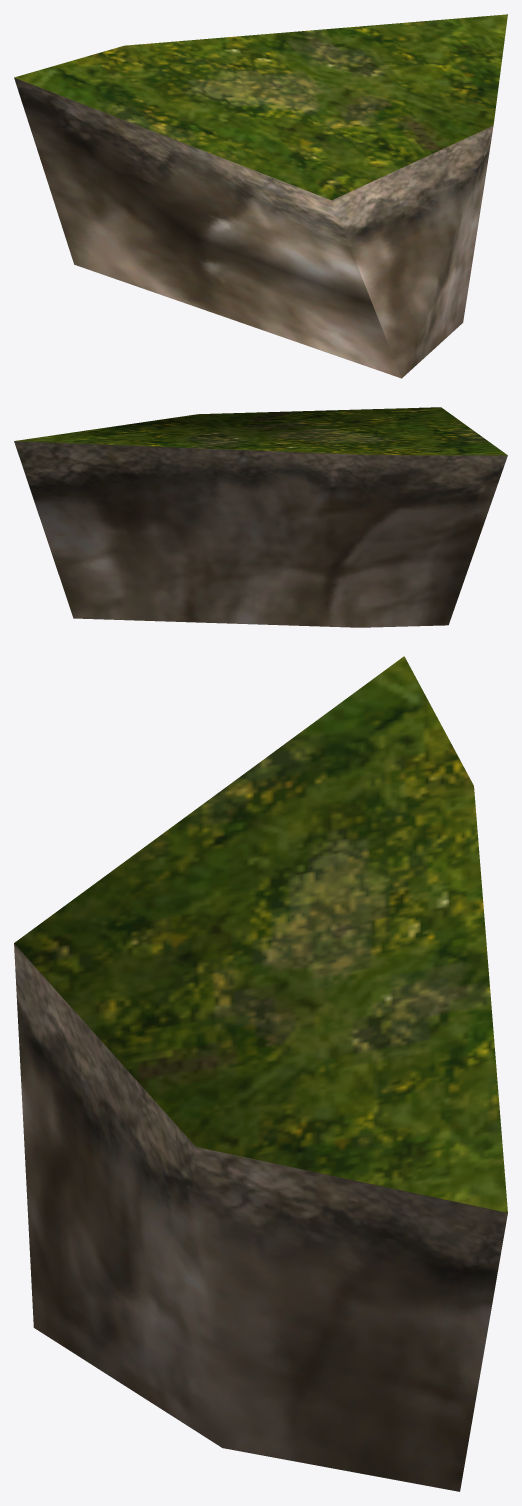
The model's file is ANIMATEDINSTANCES_OH_ROCKFALL_203__AI.fbx.
The picture shows the model from 3 angles, top to bottom: view 1: azimuth 30°, elevation 25°; view 2: azimuth 150°, elevation 25°; view 3: azimuth 270°, elevation 25°; orthographic projection. The views are drawn at different scales.
Visible parts, largest first — view 1: ANIMATEDINSTANCES_OH_ROCKFALL_203__AI; view 2: ANIMATEDINSTANCES_OH_ROCKFALL_203__AI; view 3: ANIMATEDINSTANCES_OH_ROCKFALL_203__AI.
Boxes of the visible parts, x1=… form: ANIMATEDINSTANCES_OH_ROCKFALL_203__AI: x1=14, y1=14, x2=507, y2=378; ANIMATEDINSTANCES_OH_ROCKFALL_203__AI: x1=14, y1=407, x2=507, y2=627; ANIMATEDINSTANCES_OH_ROCKFALL_203__AI: x1=14, y1=656, x2=507, y2=1491.
Size of the model in its own units: 14218 by 7739 by 7172.
Materials: 2 (2 with a texture image).
